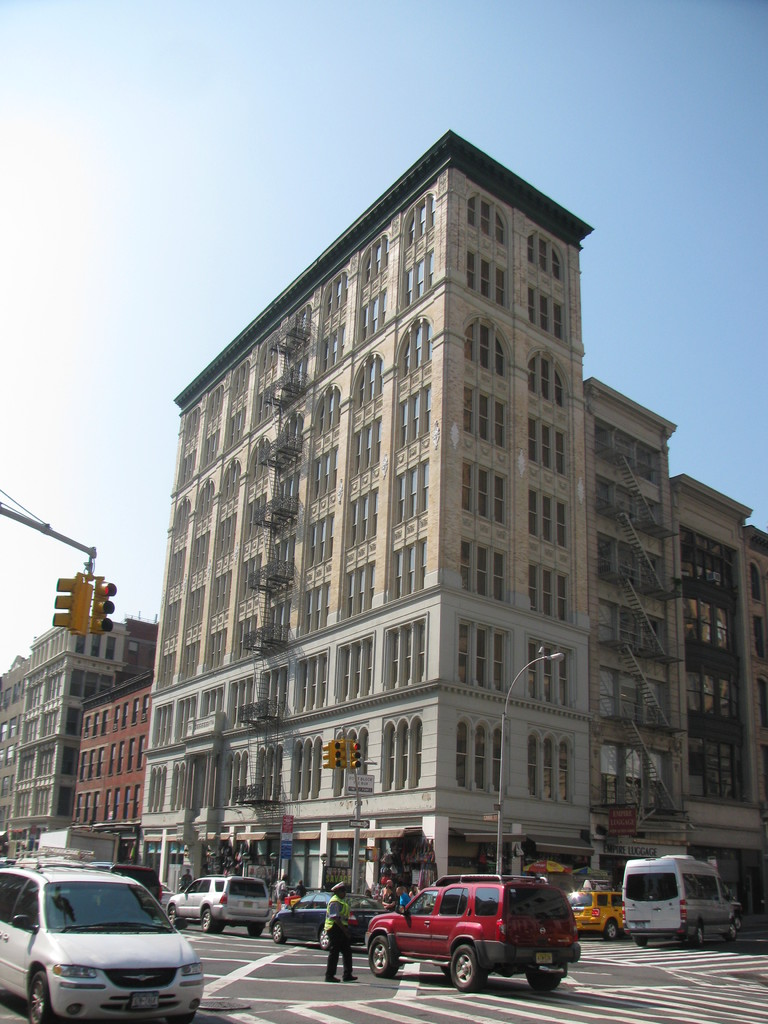cars: (0, 864, 211, 1023), (353, 877, 579, 987), (261, 887, 377, 943), (163, 875, 268, 931), (573, 884, 621, 940)
